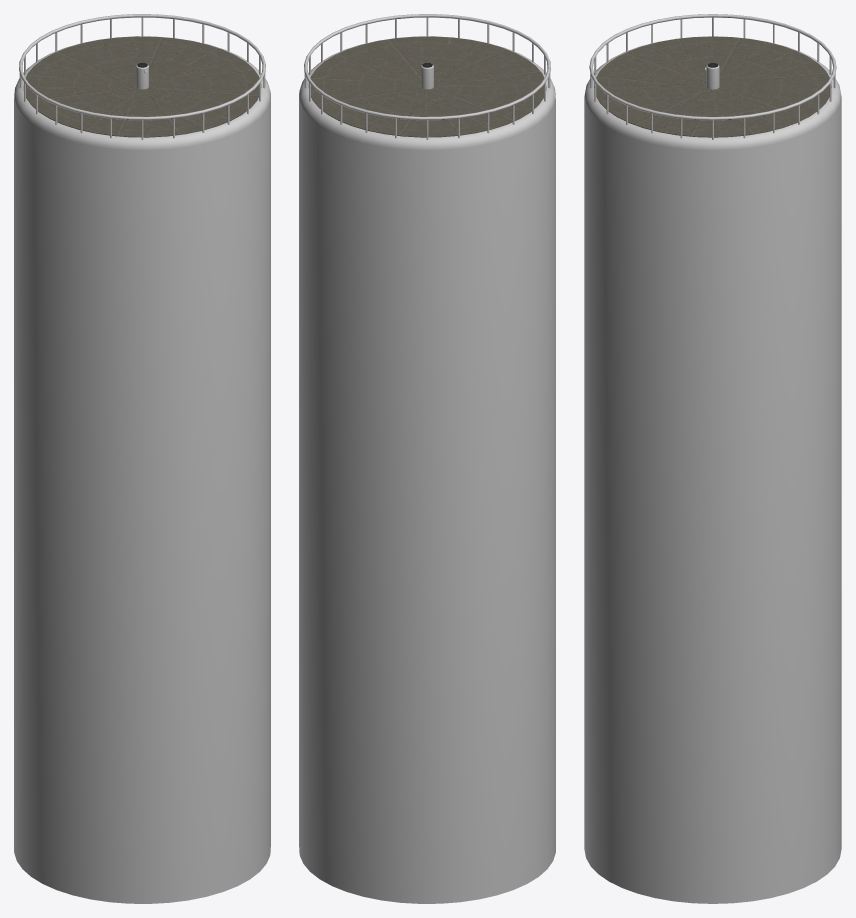
The model's file is Pedestal.FBX.
3 renders of one model, left to right at view 1: azimuth 30°, elevation 25°; view 2: azimuth 150°, elevation 25°; view 3: azimuth 270°, elevation 25°, orthographic.
Parts seen in each view (by area): view 1: ChamferCyl01, Cylinder25, Torus01; view 2: ChamferCyl01, Cylinder25, Torus01; view 3: ChamferCyl01, Cylinder25, Torus01.
Boxes of the visible parts, left/top/right/bottom form: ChamferCyl01: left=14, top=36, right=270, bottom=903; Cylinder25: left=23, top=36, right=261, bottom=137; Torus01: left=19, top=14, right=265, bottom=120; ChamferCyl01: left=299, top=36, right=555, bottom=903; Cylinder25: left=308, top=36, right=546, bottom=137; Torus01: left=304, top=14, right=550, bottom=120; ChamferCyl01: left=584, top=36, right=841, bottom=903; Cylinder25: left=594, top=36, right=831, bottom=137; Torus01: left=589, top=14, right=836, bottom=120.
Bounding box in the file's own units: 50.55 × 170 × 50.55.
